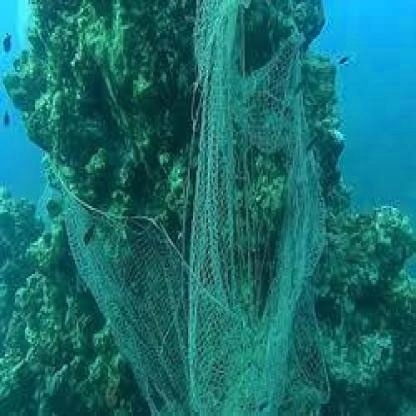net: (65, 4, 333, 416)
